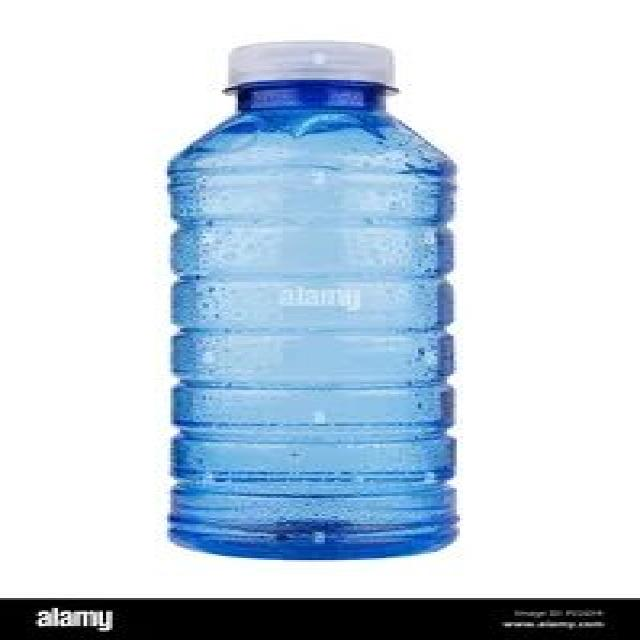blue: (163, 85, 461, 558)
